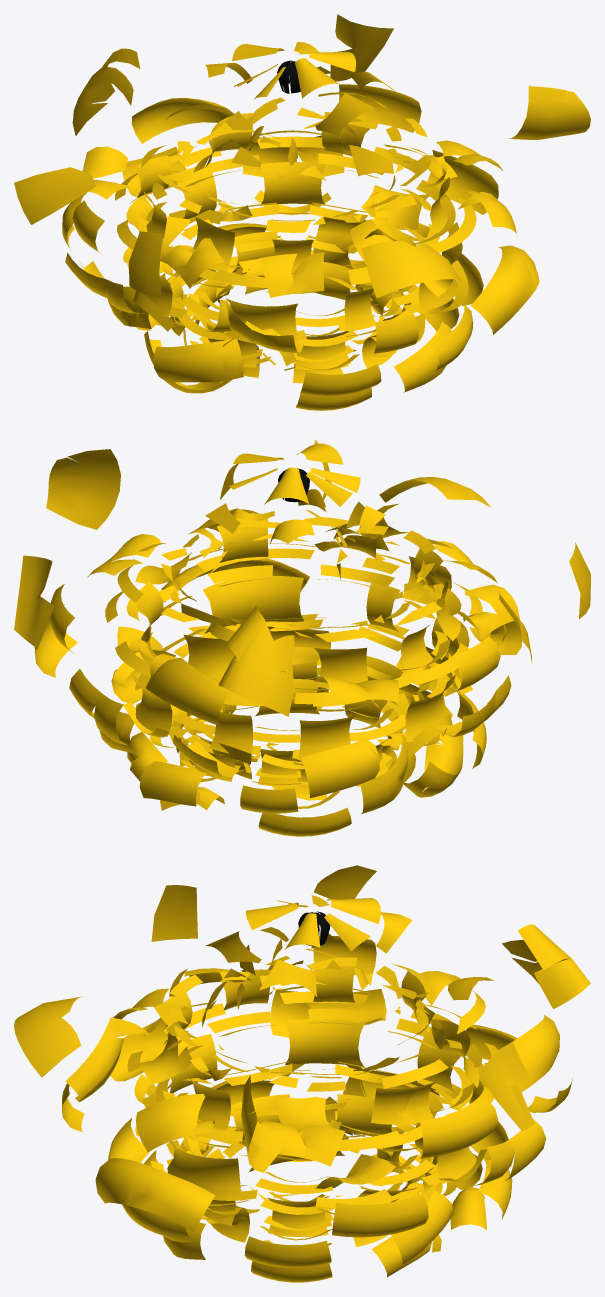
3 views of the same model, one above another, from view 1: azimuth 30°, elevation 25°; view 2: azimuth 150°, elevation 25°; view 3: azimuth 270°, elevation 25° (orthographic). The views are drawn at different scales.
Visible parts, largest first — view 1: Torus.006; view 2: Torus.006; view 3: Torus.006.
Boxes of the visible parts, x1,y1,x2,y2 form: Torus.006: (14, 14, 590, 410); Torus.006: (14, 439, 590, 836); Torus.006: (14, 865, 590, 1282).
Bounding box in the file's own units: 191 × 107 × 174.
